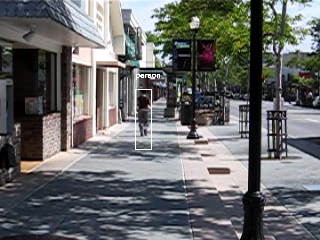person: (136, 87, 151, 138), (135, 87, 150, 138), (137, 87, 152, 138), (136, 86, 151, 137), (136, 88, 151, 139)
target_negative: (215, 59, 289, 137), (89, 24, 270, 35), (90, 197, 199, 214), (102, 207, 156, 238), (285, 136, 289, 162), (261, 63, 266, 73)
